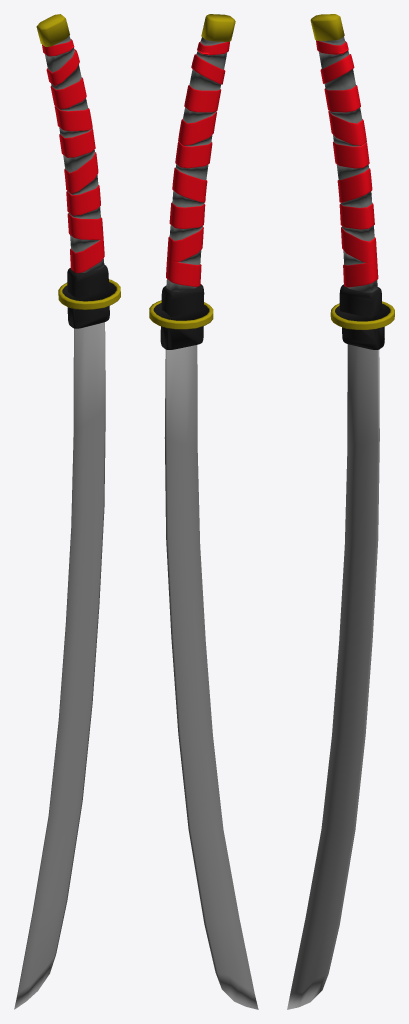
Rendered from Sword_katana.fbx.
3 renders of one model, left to right at view 1: azimuth 30°, elevation 25°; view 2: azimuth 210°, elevation 25°; view 3: azimuth 330°, elevation 25°, orthographic. The views are drawn at different scales.
Parts seen in each view (by area): view 1: Cube_Cube.007; view 2: Cube_Cube.007; view 3: Cube_Cube.007.
Boxes of the visible parts, bbox=[...] form: Cube_Cube.007: bbox=[14, 14, 120, 1009]; Cube_Cube.007: bbox=[149, 14, 258, 1009]; Cube_Cube.007: bbox=[287, 14, 394, 1009].
Size of what is drawn, in the model's own units: 77.73 by 714 by 40.27.
